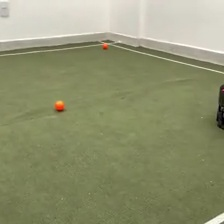ball: (54, 98, 65, 111), (101, 41, 108, 50)
